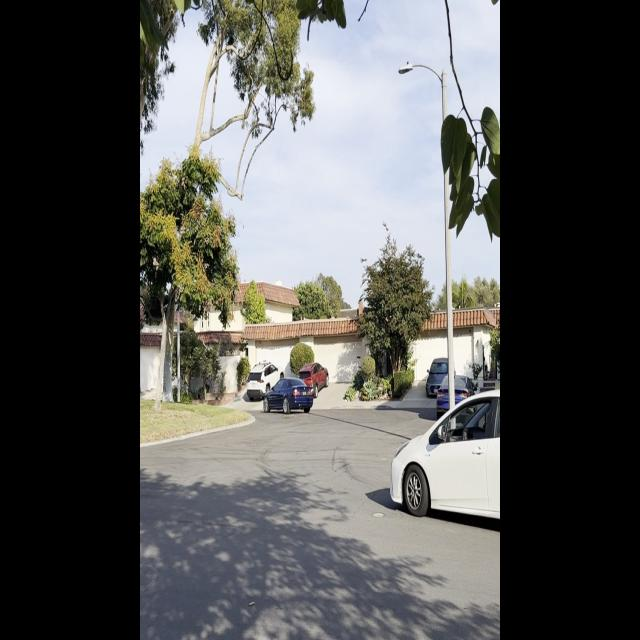Carbeetle: (261, 370, 317, 421)
Civilian: (388, 372, 501, 536), (436, 373, 478, 421), (427, 357, 463, 397), (245, 366, 283, 402), (293, 362, 327, 399)
